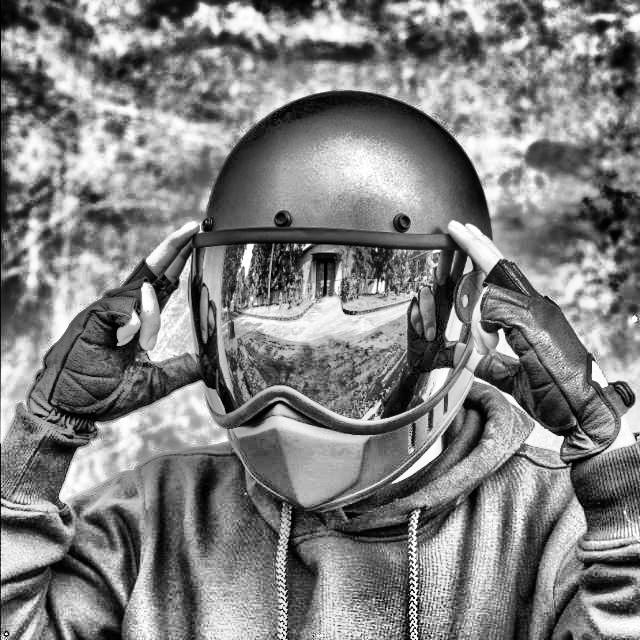Helmet: (183, 84, 500, 521)
